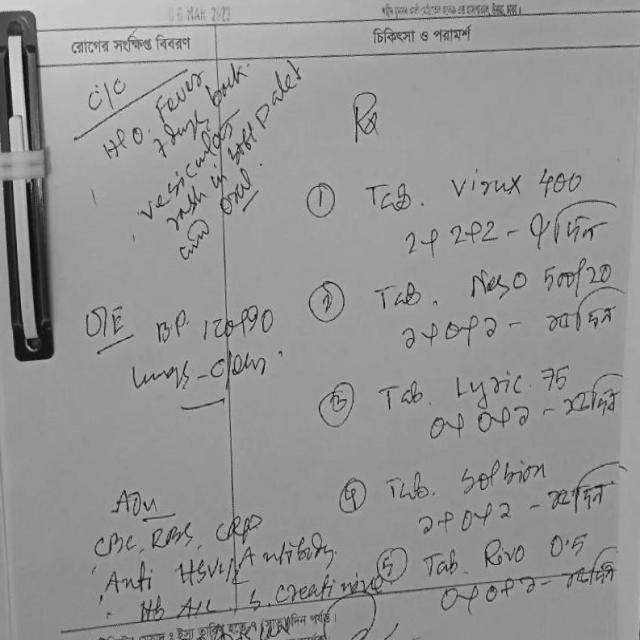medicine: (457, 456, 548, 496), (462, 261, 532, 309), (448, 164, 526, 206), (450, 368, 530, 406), (478, 534, 532, 570)
